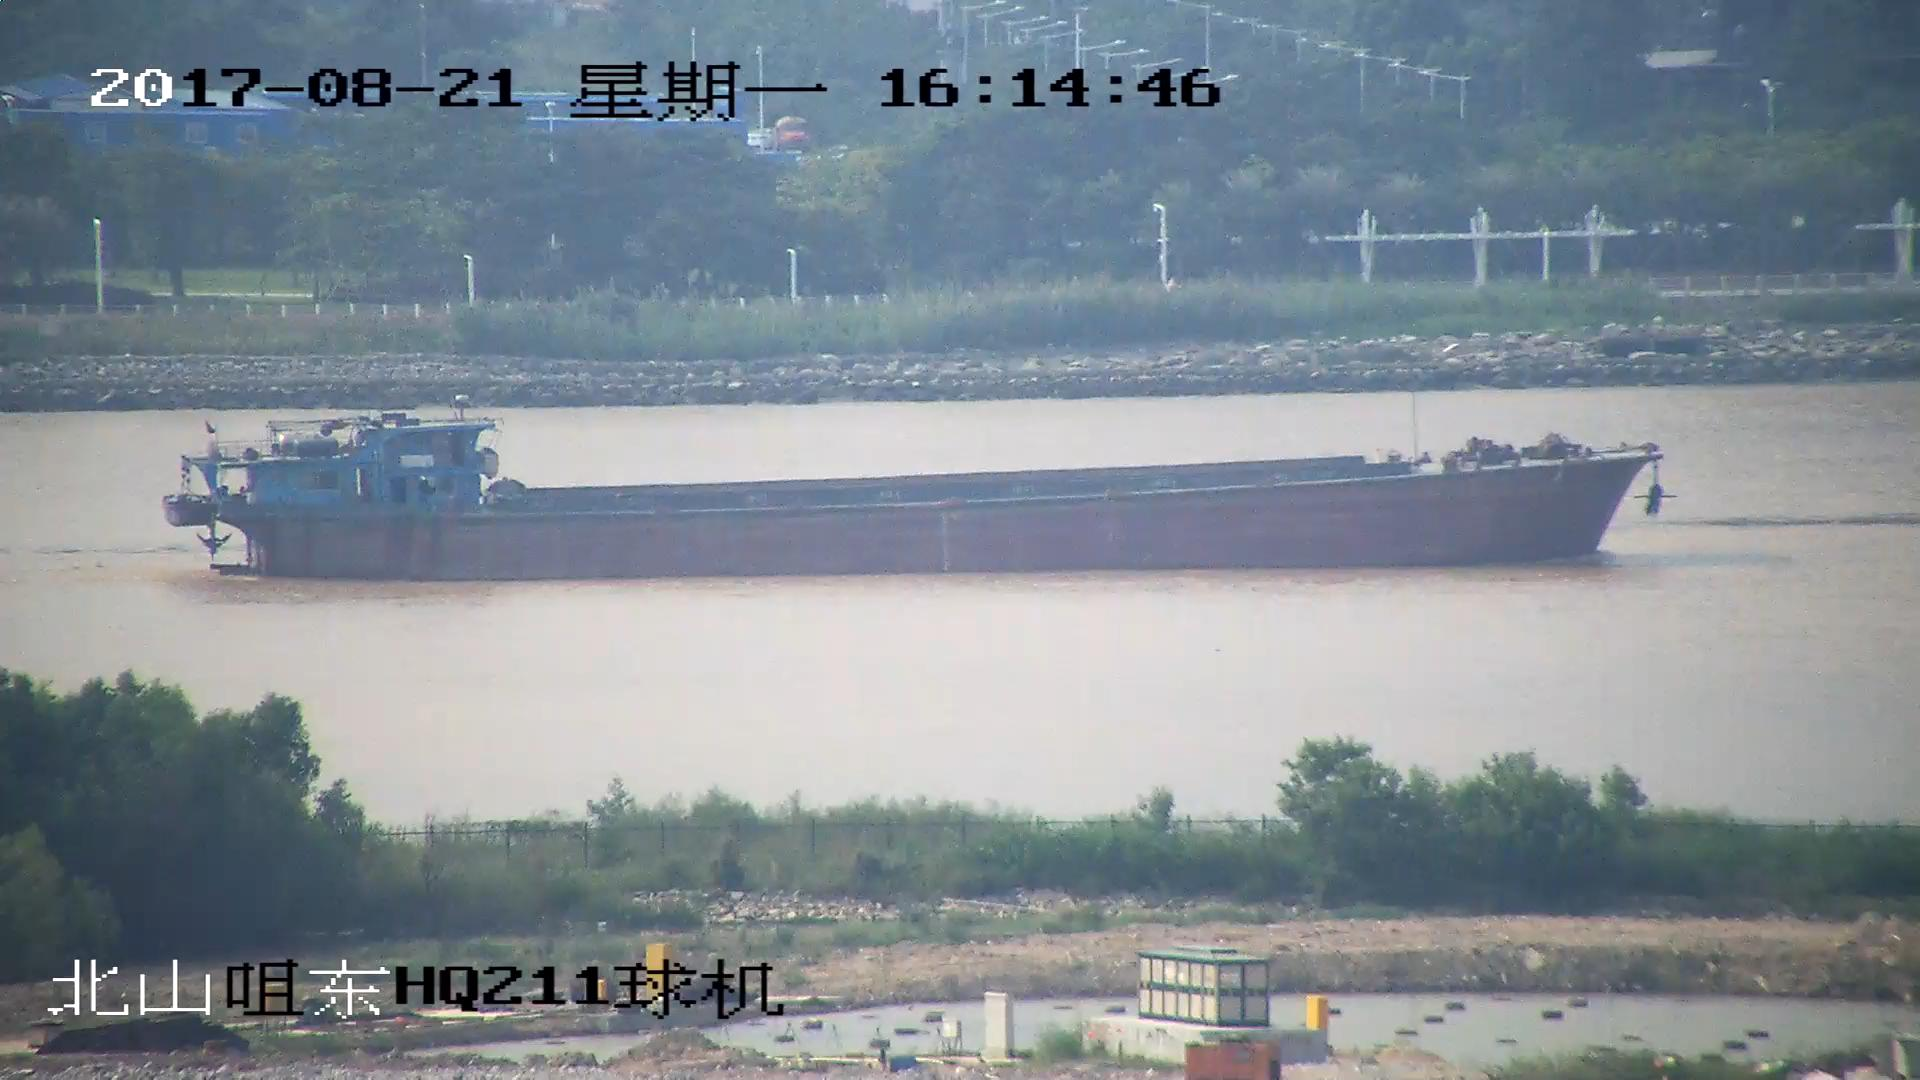bulk cargo carrier: (172, 398, 1667, 580)
